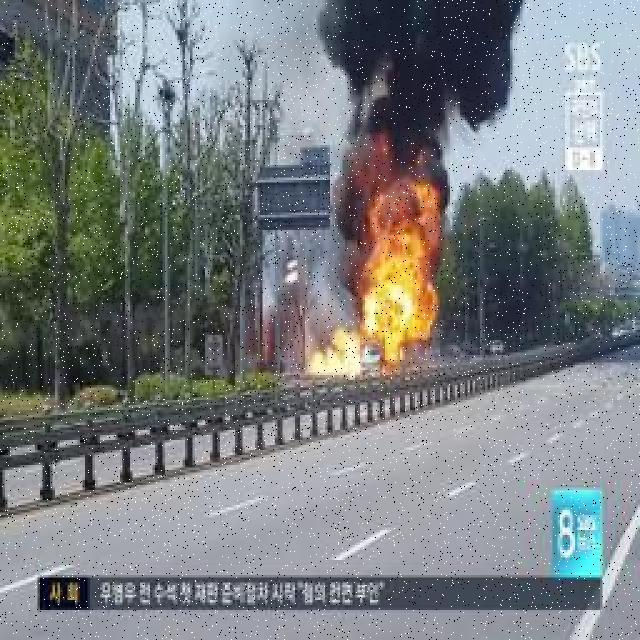fire: (328, 185, 444, 370)
smoke: (313, 0, 521, 171)
